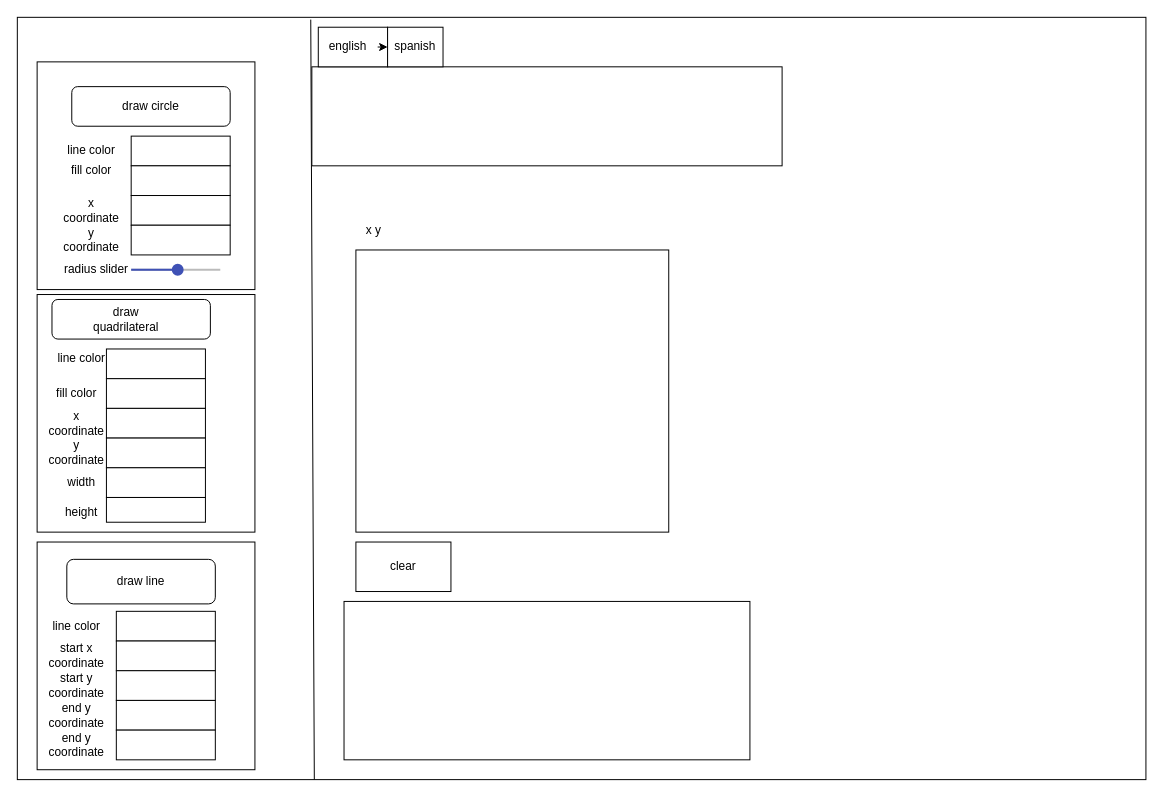
Some shapes in this 1163 by 798 pixel diagram are drawn without their labels. Here are the shapes that lost their labels. From the top down, the box of each, then its label:
(311, 66, 782, 166): Abstract Art competition Navigation instructions
(355, 249, 669, 532): canvas
(343, 600, 750, 760): user submission form
